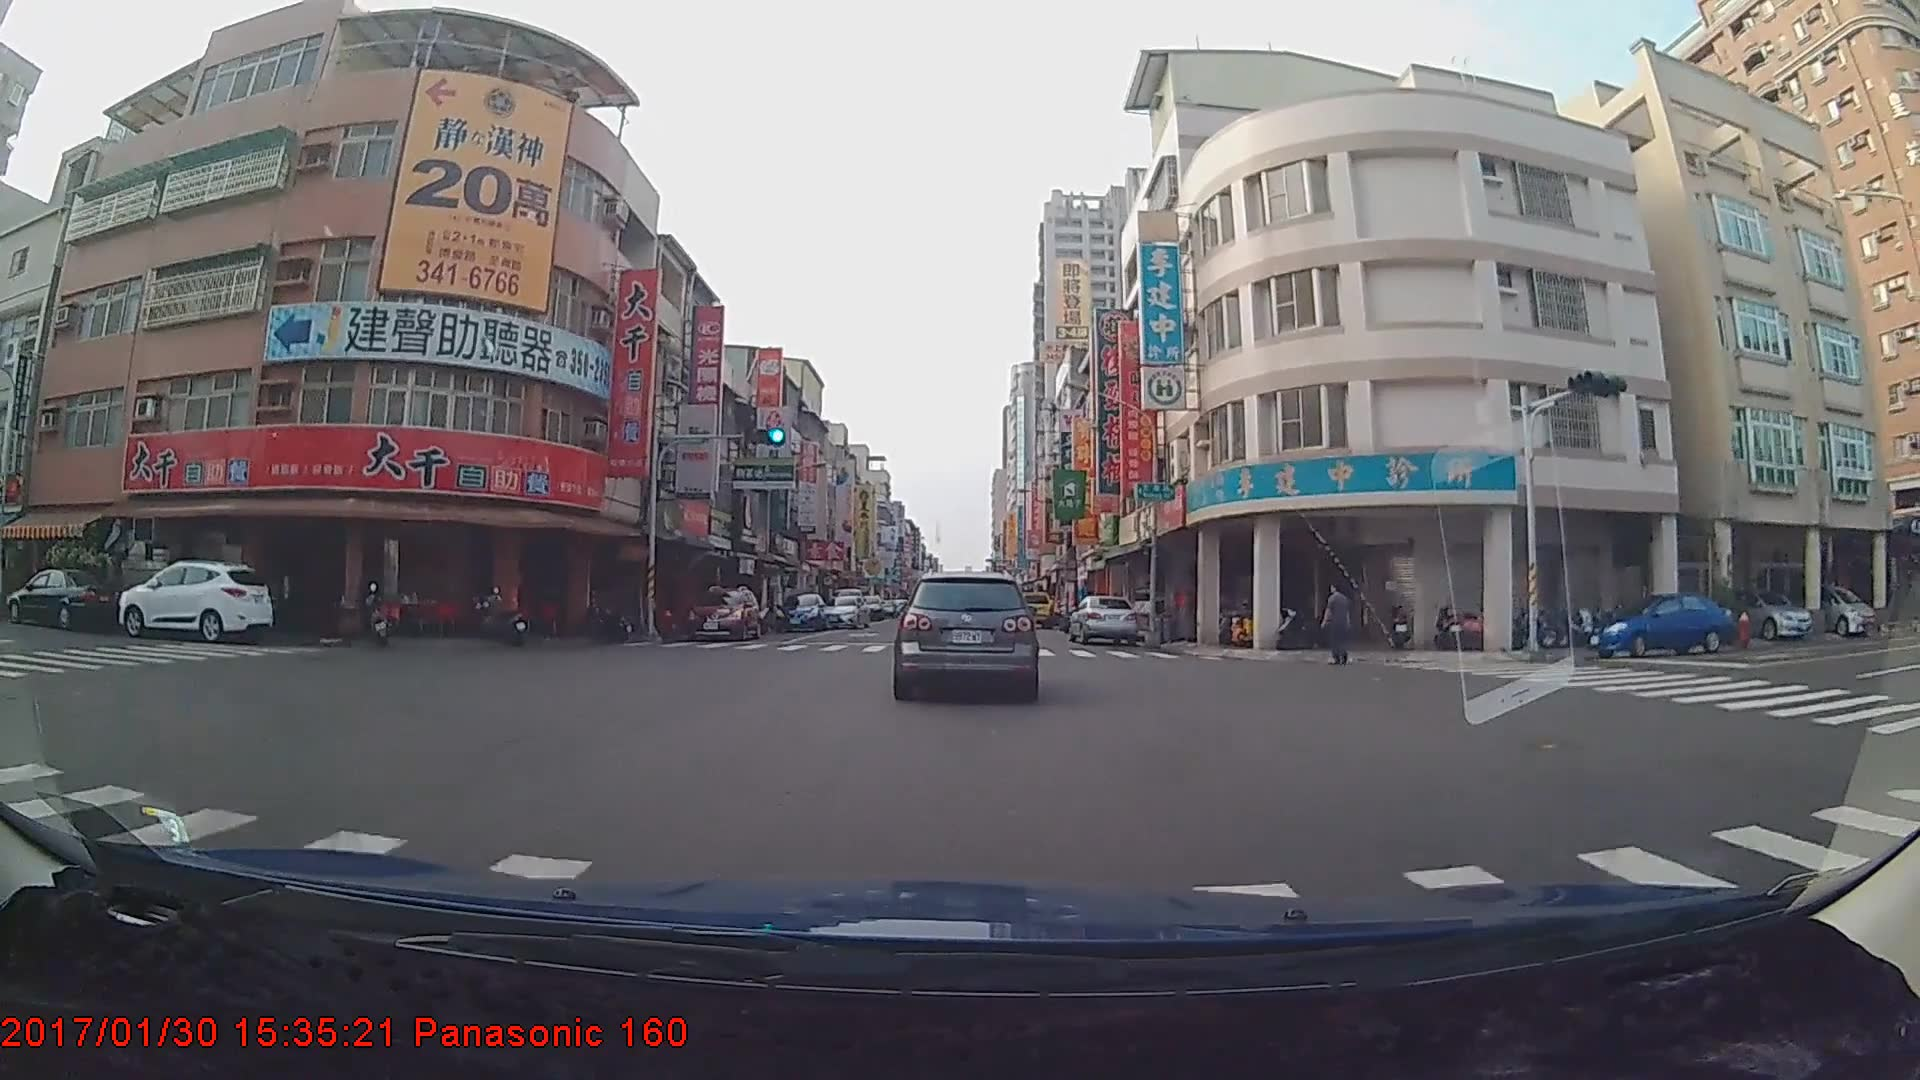pedestrian: (1321, 584, 1359, 670)
vehicle: (893, 569, 1037, 701), (116, 558, 270, 643), (1589, 593, 1732, 658), (1708, 583, 1818, 642), (8, 567, 109, 631), (1778, 580, 1879, 639), (682, 582, 761, 638), (1062, 591, 1138, 647), (774, 589, 830, 631), (816, 592, 870, 626), (1013, 589, 1054, 626)
